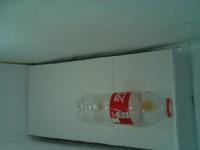bottle: (75, 92, 174, 127)
